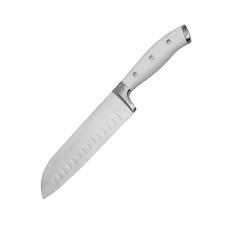Knife: (40, 23, 191, 199)
